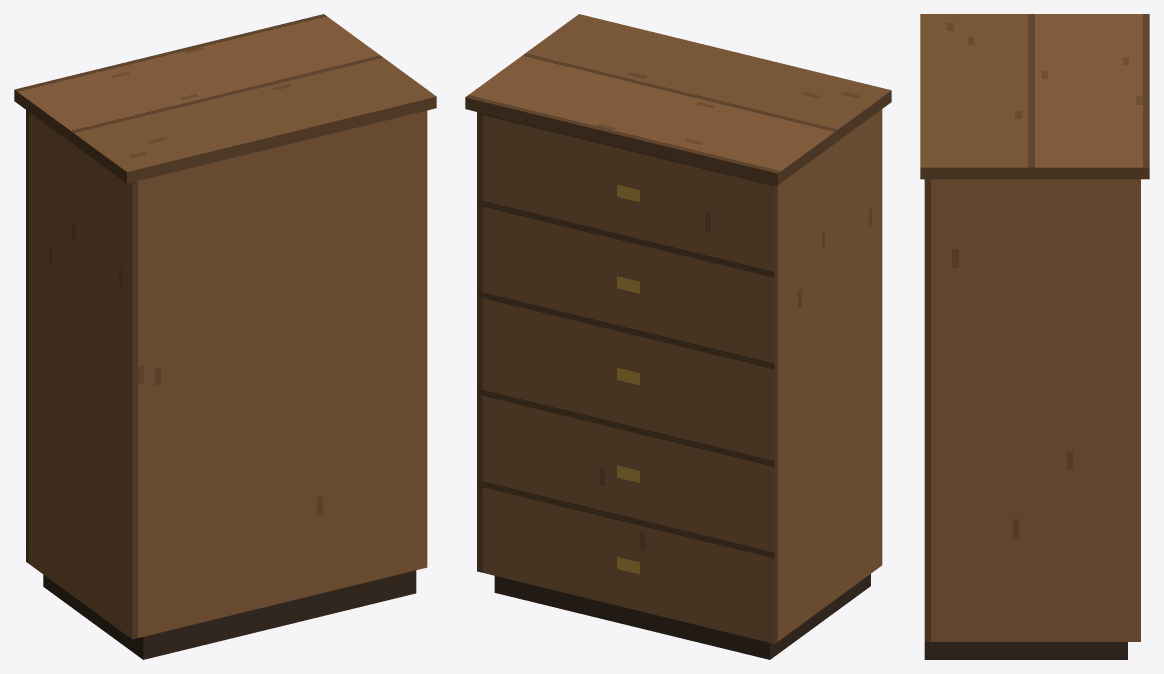
File: f_dresser.glb
3 renders of one model, left to right at view 1: azimuth 30°, elevation 25°; view 2: azimuth 150°, elevation 25°; view 3: azimuth 270°, elevation 25°, orthographic.
Parts seen in each view (by area): view 1: block_chest, block_top, block_chest-plinth; view 2: block_chest, block_top, block_chest-plinth; view 3: block_chest, block_top, block_chest-plinth.
Part boxes in pixels (box(x1,y1,x2,y2)): block_chest: box(26, 110, 427, 639); block_top: box(14, 14, 436, 183); block_chest-plinth: box(43, 570, 416, 659); block_chest: box(477, 109, 882, 643); block_top: box(465, 14, 891, 185); block_chest-plinth: box(494, 574, 870, 659); block_chest: box(924, 179, 1140, 641); block_top: box(920, 14, 1149, 179); block_chest-plinth: box(924, 642, 1127, 659).
Bounding box in the file's own units: 0.84 × 1.28 × 0.53.
1 material, 1 textured.
